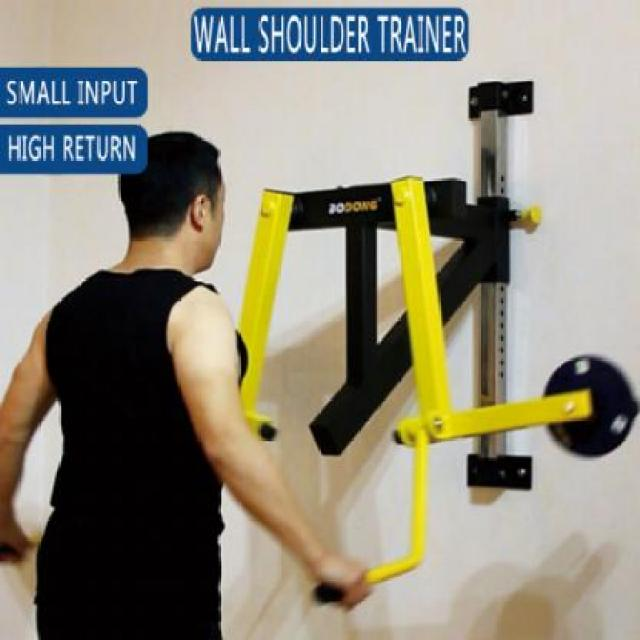lateral raises machine: (235, 75, 640, 616)
